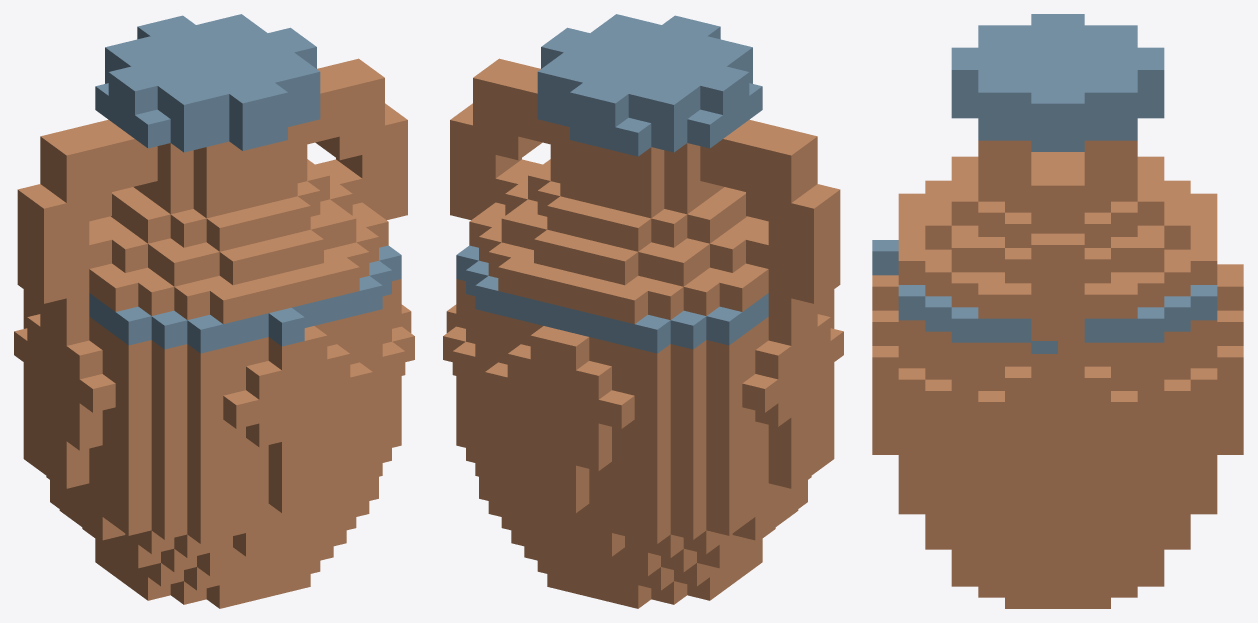
Rendered from painted_amphora.glb.
3 renders of one model, left to right at view 1: azimuth 30°, elevation 25°; view 2: azimuth 150°, elevation 25°; view 3: azimuth 270°, elevation 25°, orthographic.
Size of the model in its own units: 0.6667 by 0.875 by 0.5833.
